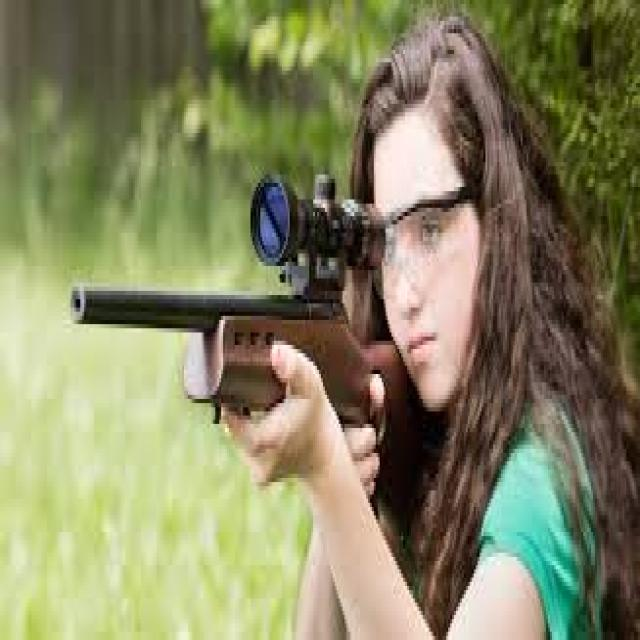gun: (54, 168, 422, 489)
